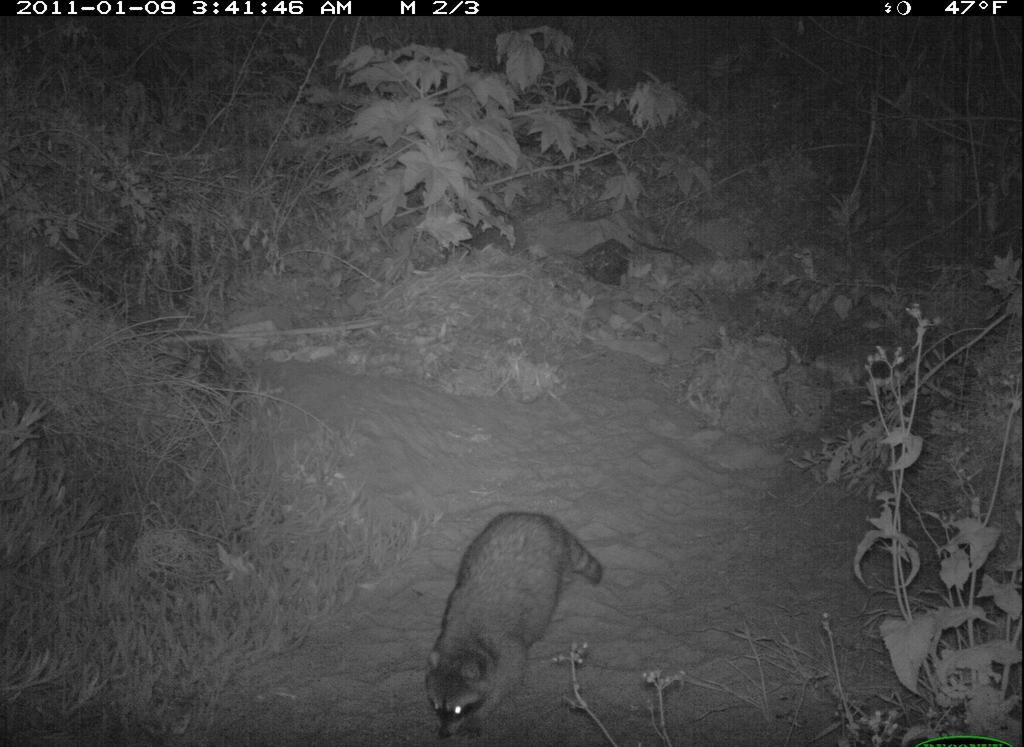raccoon: (408, 507, 612, 747)
